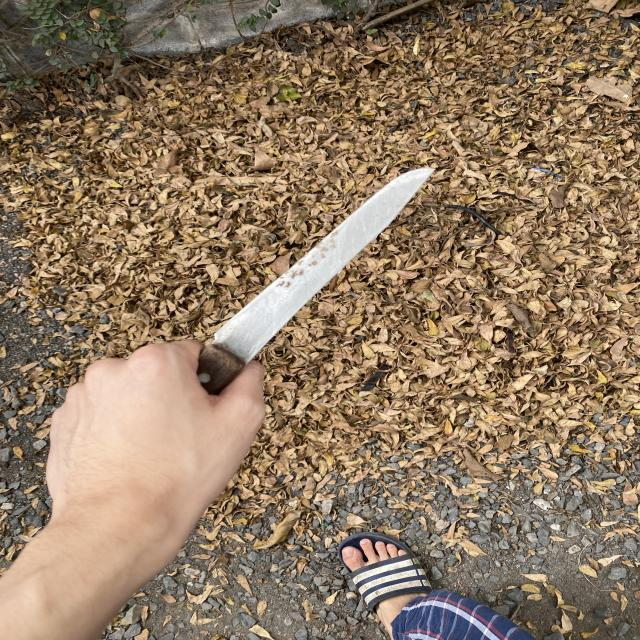faca: (27, 158, 462, 528)
